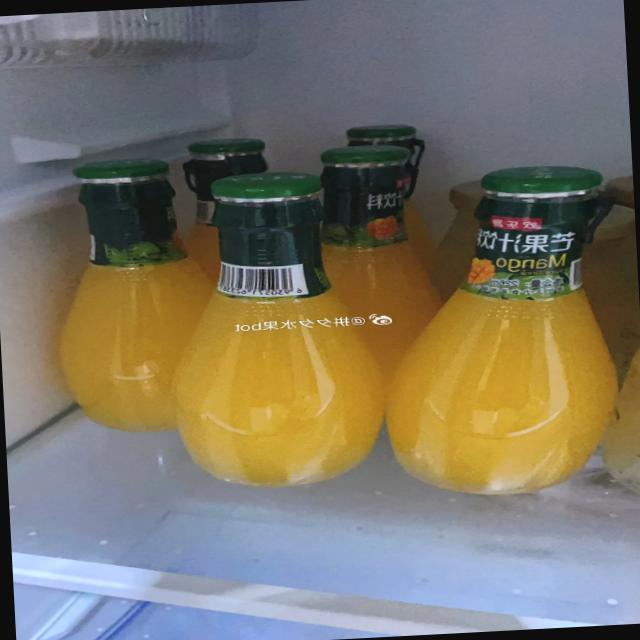bottle: (373, 162, 628, 505), (158, 168, 390, 494), (52, 157, 228, 443), (310, 144, 440, 320), (178, 131, 272, 181), (342, 120, 424, 150)
